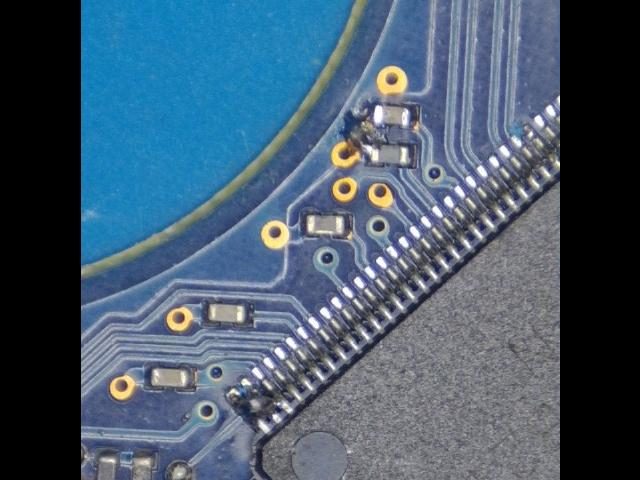Short_circuit: (226, 368, 295, 436), (362, 106, 389, 162)
